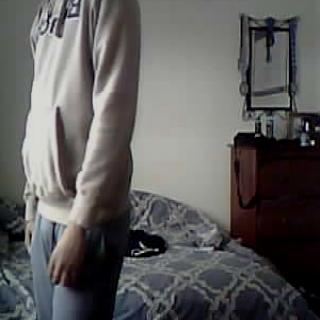Blue Sweatpants: (24, 213, 131, 320)
Yellow Hoodie: (19, 0, 146, 216)
